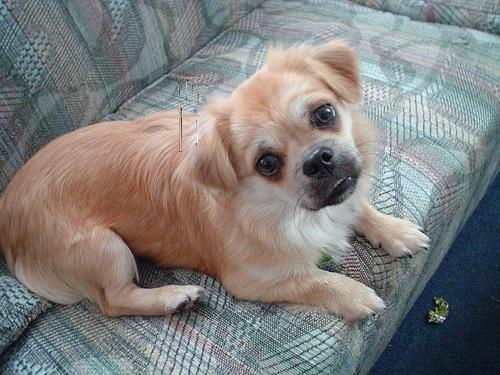tampered: (179, 78, 206, 152)
